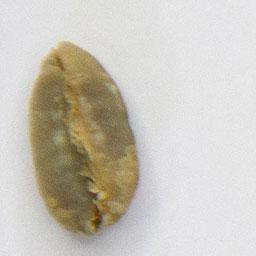longberry: (25, 36, 144, 240)
